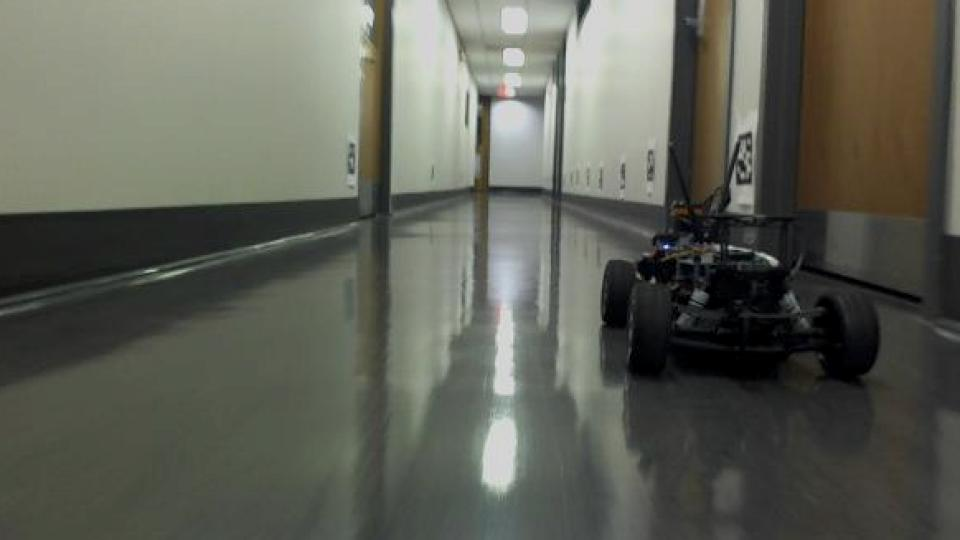car: (596, 134, 884, 384)
